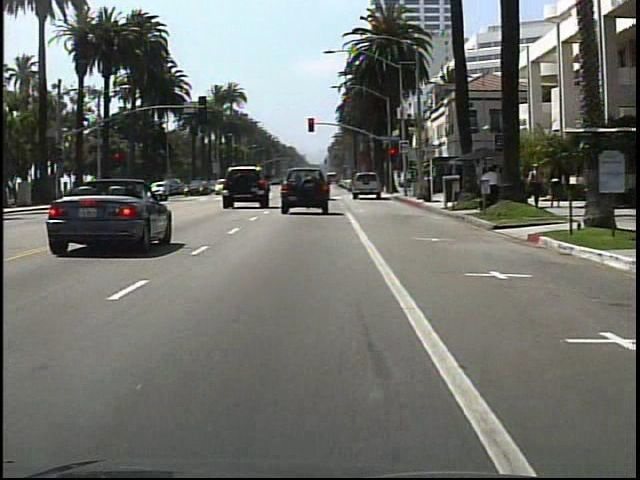person: (479, 164, 504, 210), (526, 159, 547, 211)
